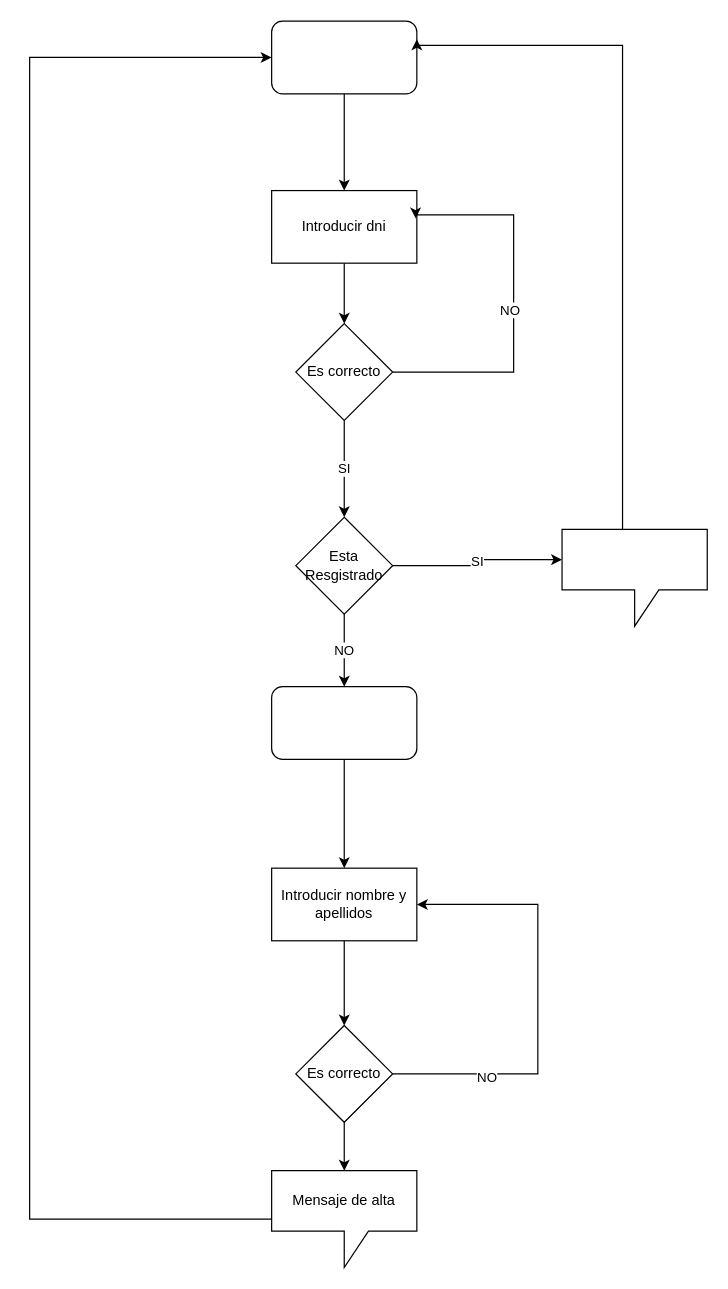
The diagram is 728 pixels wide and 1289 high, and some of its shapes have lost their labels. Each missing label, with the box of its shape:
Interfaz Principal: (270, 20, 417, 94)
Interfaz Registro: (270, 685, 417, 759)
Mensaje de inicio de sesion: (561, 528, 707, 626)
